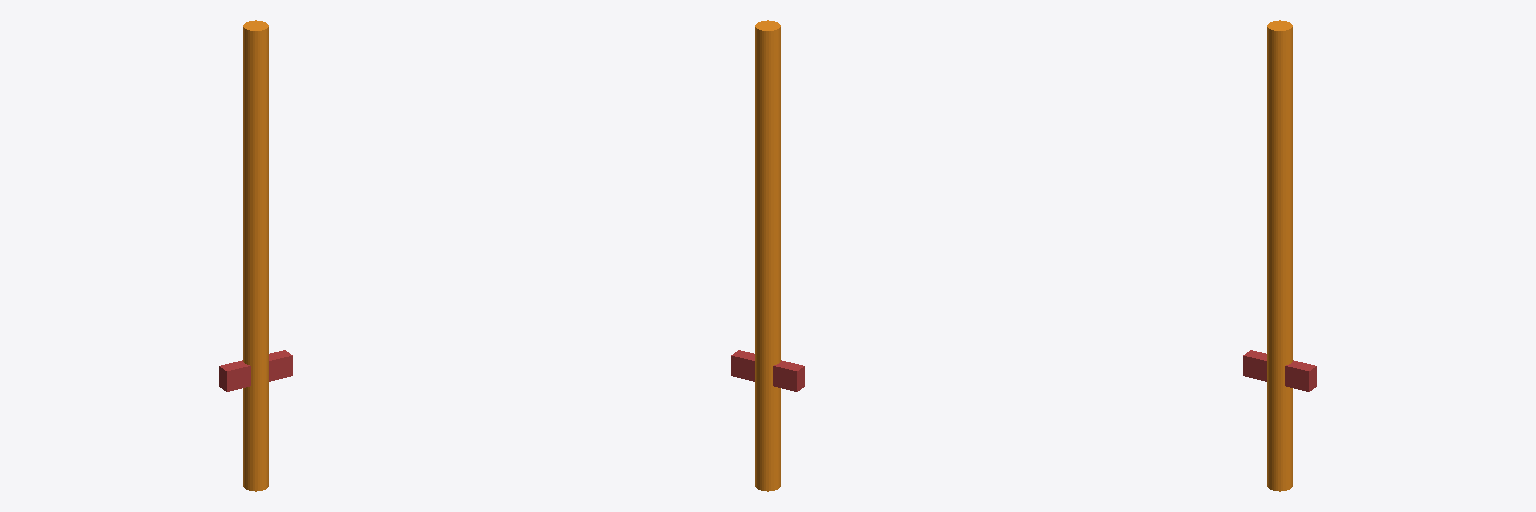
The robot description file, URDF, robot "testbed":
<?xml version="1.0"?>
<robot name="testbed">

  <!-- <link name="world" /> -->

  <link name="testbed">
    <visual>
      <origin xyz="0 0 -0.5"/>
      <geometry>
        <cylinder length="1" radius="0.025"/>
      </geometry>
      <material name="orange">
        <color rgba="0.9451    0.6000    0.1765 1"/>
      </material>
    </visual>
    <visual name="direction_indicator">
      <origin xyz="0 0 -0.75"/>
      <geometry>
        <box size="0.15 0.03 0.045"/>
      </geometry>
      <material name="red">
        <color rgba="0.7490    0.3020    0.3020 1"/>
      </material>
    </visual>

    <collision>
      <origin xyz="0 0 -0.5"/>
      <geometry>
        <cylinder length="1" radius="0.025"/>
      </geometry>
    </collision>

    <inertial>
      <mass value="1.0"/>
      <inertia ixx="0.5" ixy="0.0" ixz="0.0" iyy="0.5" iyz="0.0" izz="0.5"/>
    </inertial>
  </link>

  <!-- <joint name="world_joint" type="continuous">
    <origin xyz="0.0 0.0 1" rpy="0.0 0.0 0.0"/>
    <axis xyz="0.0 0.0 1"/>
    <parent link="world"/>
    <child link="testbed"/>
  </joint> -->

</robot>

--- Facts derived from the render (not from the file) ---
The picture shows the robot from 3 angles, left to right: view 1: azimuth 30°, elevation 25°; view 2: azimuth 150°, elevation 25°; view 3: azimuth 330°, elevation 25°; orthographic projection.
Model testbed with 1 links and 0 joints (none), rooted at testbed, posed all joints at 0.
Visible links, largest first — view 1: testbed; view 2: testbed; view 3: testbed.
Link boxes in pixels (x1,y1,x2,y2): testbed: (219, 20, 292, 491); testbed: (731, 20, 804, 491); testbed: (1243, 20, 1316, 491).
Bounding box of the posed robot: 0.15 × 0.05 × 1 m (x, y, z).
Geometry: primitives only (box / cylinder / sphere), no mesh files.
